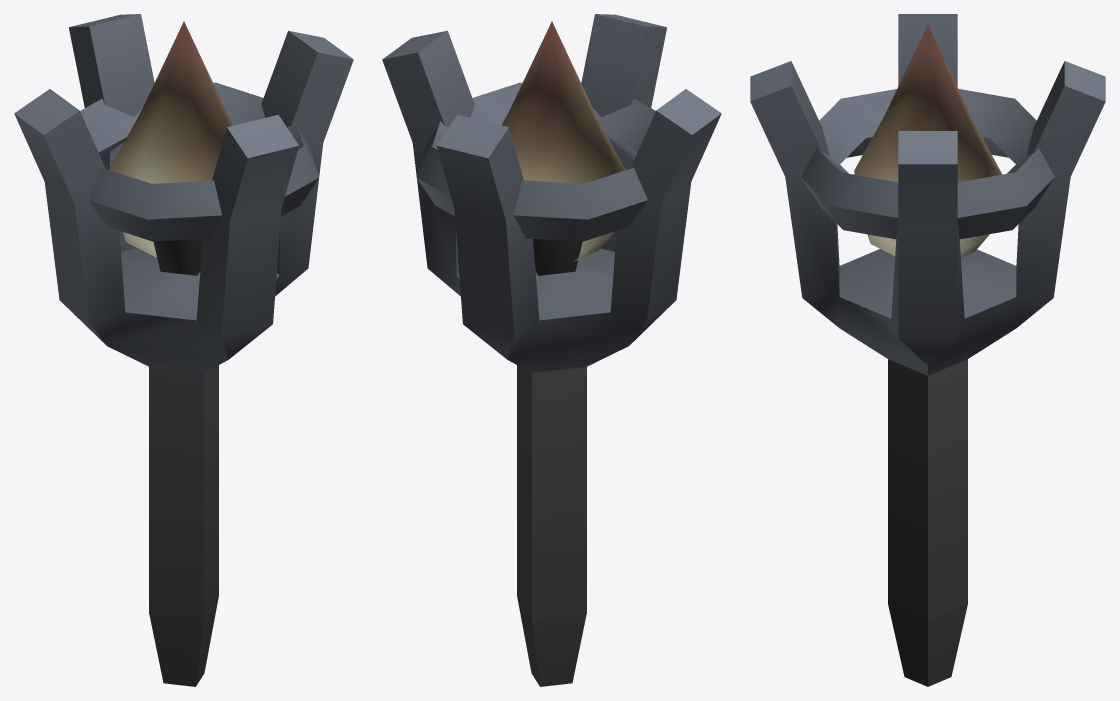
Rendered from torch_lit.glb.
3 renders of one model, left to right at view 1: azimuth 30°, elevation 25°; view 2: azimuth 150°, elevation 25°; view 3: azimuth 270°, elevation 25°, orthographic.
Parts seen in each view (by area): view 1: torch_lit; view 2: torch_lit; view 3: torch_lit.
Boxes of the visible parts, x1,y1,x2,y2 form: torch_lit: [14, 14, 353, 686]; torch_lit: [382, 14, 721, 686]; torch_lit: [750, 14, 1105, 686].
Bounding box in the file's own units: 0.5503 × 1.13 × 0.5503.
1 material, 1 textured.
